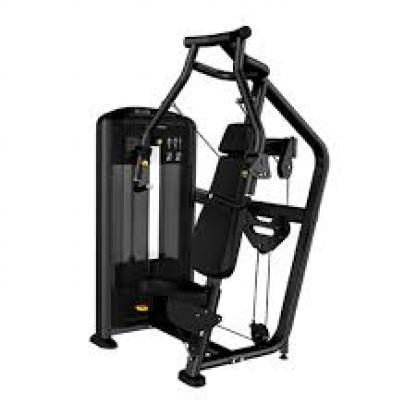Chest Press machine: (83, 21, 335, 391)
